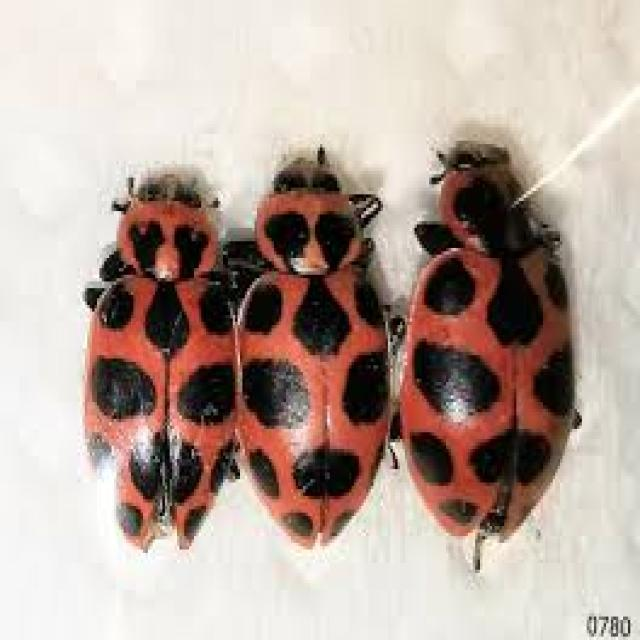bug: (399, 138, 587, 573), (239, 137, 401, 556), (84, 163, 242, 560)
